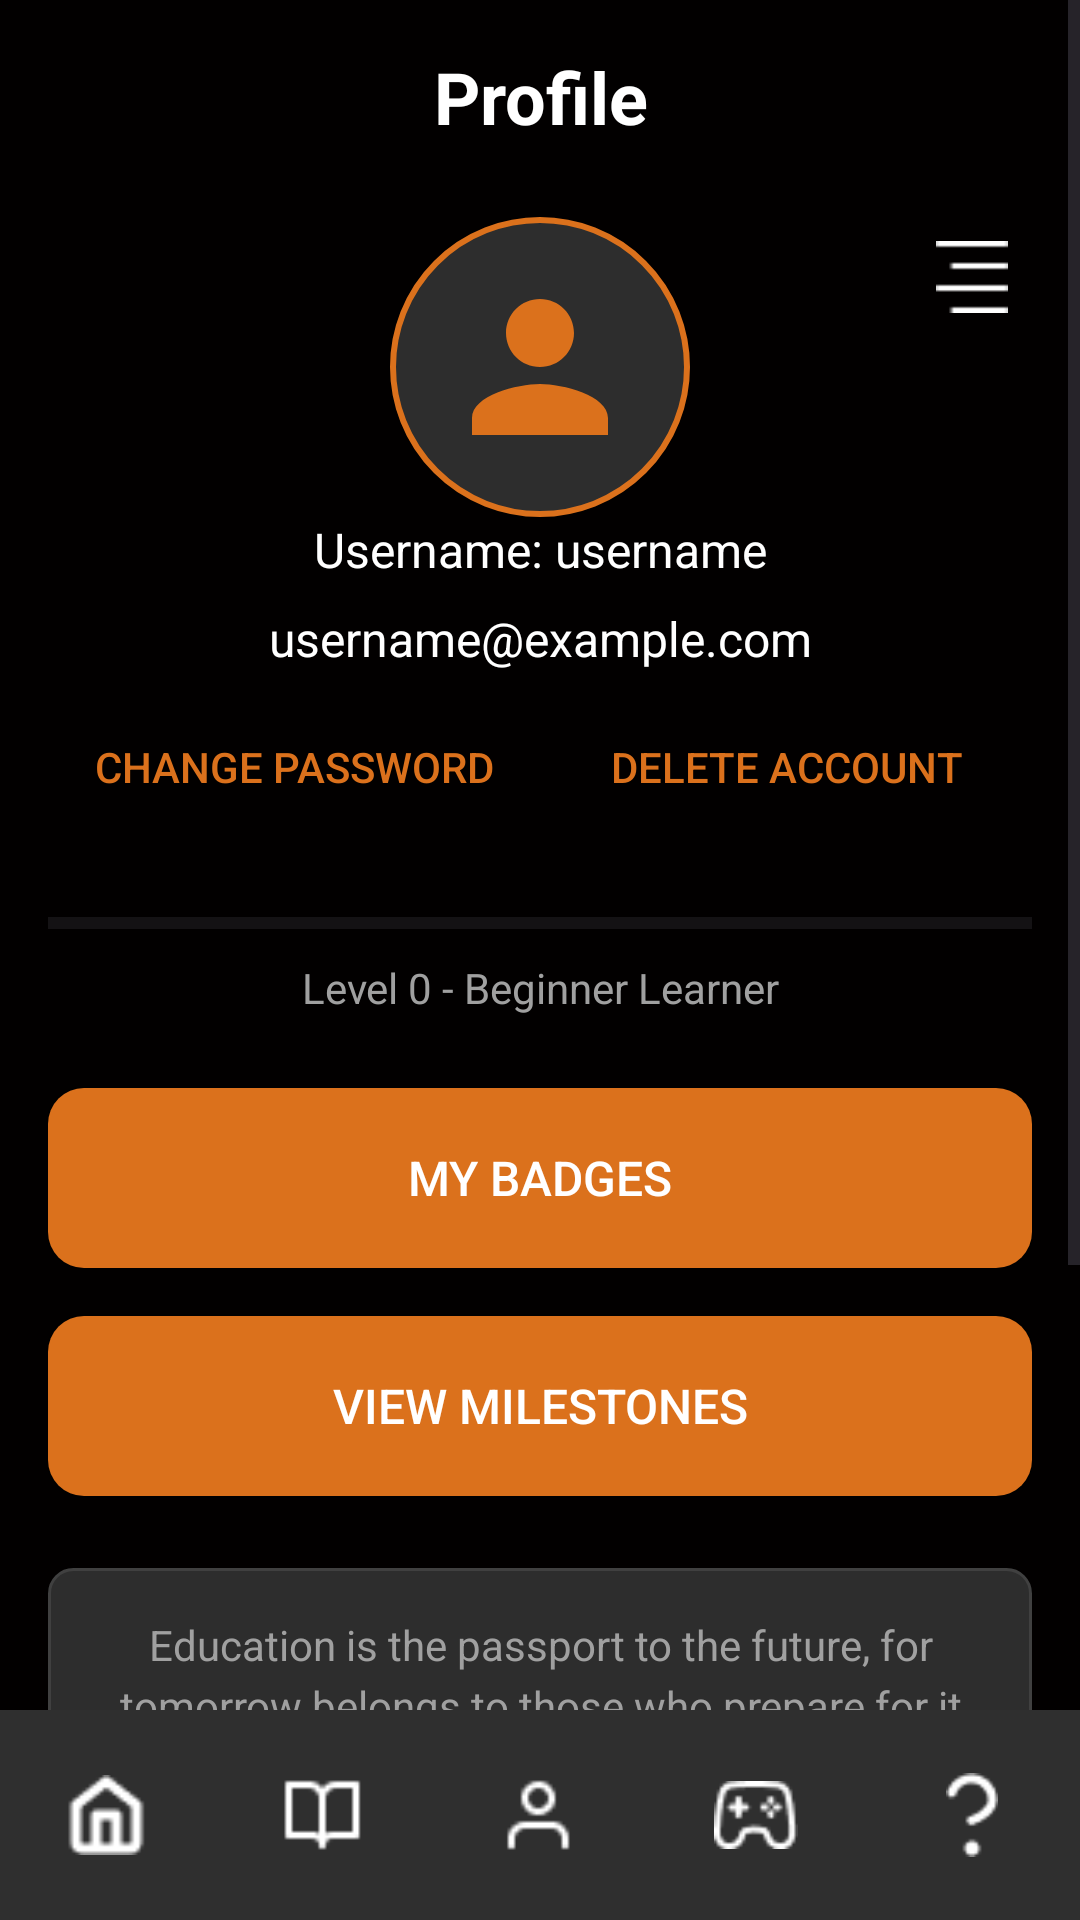

Icon bounding boxes for this 1080 × 1920 phone screenshot, format (x1, y1, x2, y2):
menu: (936, 241, 1008, 313)
